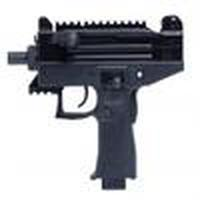gun: (6, 15, 193, 143)
